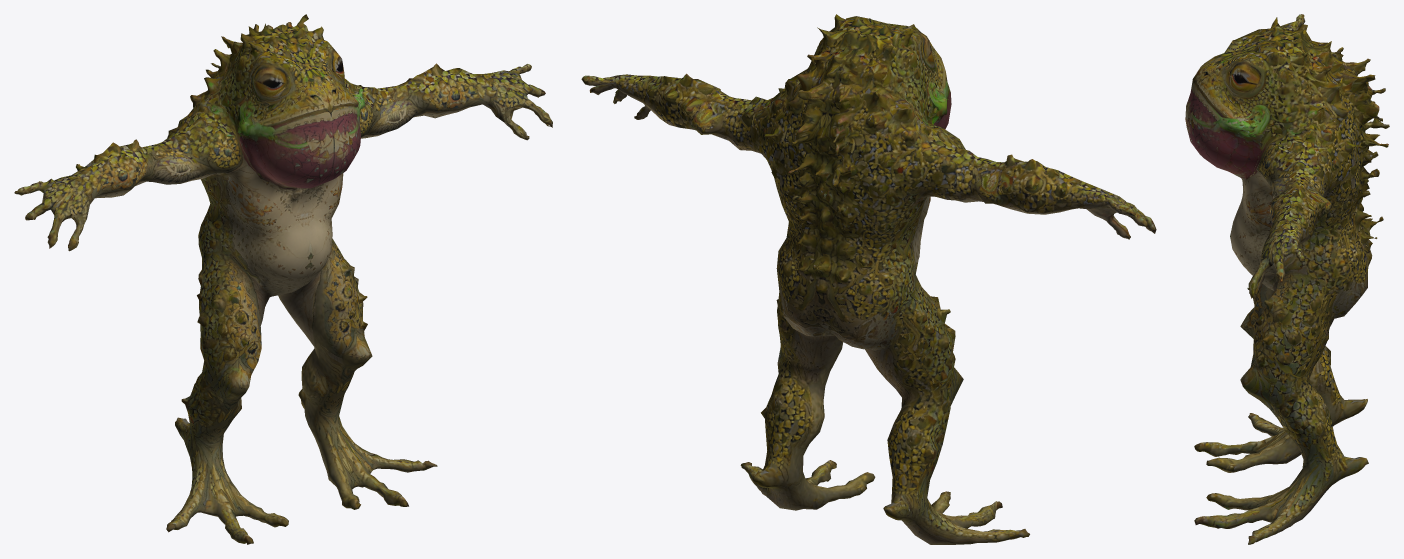
File: Toad_E.fbx
3 views of the same model, side by side, from view 1: azimuth 30°, elevation 25°; view 2: azimuth 150°, elevation 25°; view 3: azimuth 270°, elevation 25° (orthographic). The views are drawn at different scales.
Visible parts, largest first — view 1: Toad_E; view 2: Toad_E; view 3: Toad_E.
Part boxes in pixels (<box>): Toad_E: <box>14,14,552,544</box>; Toad_E: <box>581,14,1156,544</box>; Toad_E: <box>1185,14,1389,544</box>.
Bounding box in the file's own units: 0.9876 × 0.8512 × 0.3436.
Materials: 1 (1 with a texture image).
